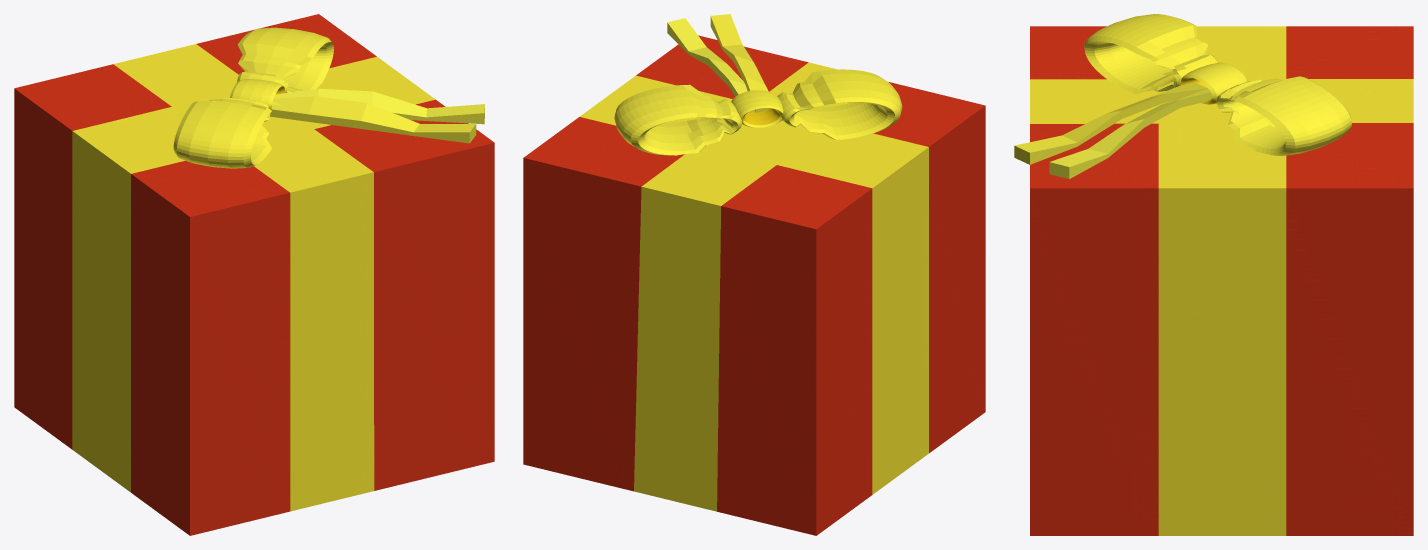
File: Present.glb
3 renders of one model, left to right at view 1: azimuth 30°, elevation 25°; view 2: azimuth 150°, elevation 25°; view 3: azimuth 270°, elevation 25°, orthographic. The views are drawn at different scales.
Parts seen in each view (by area): view 1: Cube; view 2: Cube; view 3: Cube.
Boxes of the visible parts, x1,y1,x2,y2 form: Cube: [14, 14, 494, 535]; Cube: [523, 14, 985, 535]; Cube: [1014, 14, 1413, 535].
Size of the model in its own units: 2.05 by 2.28 by 2.08.
1 material, 1 textured.
